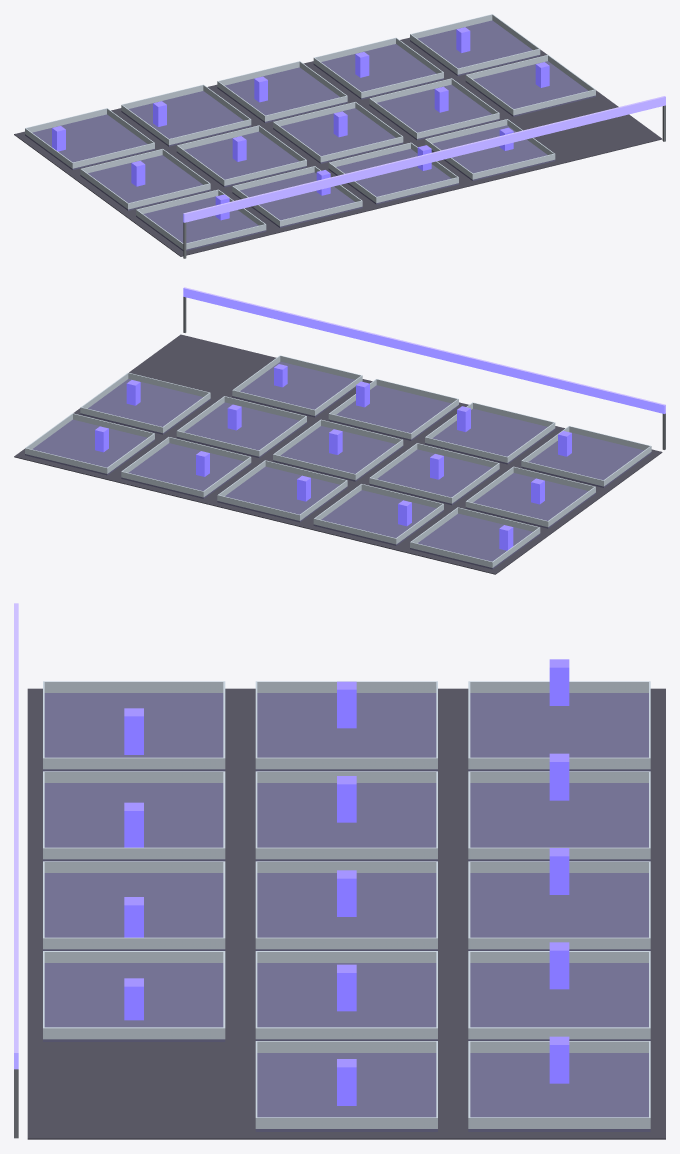
File: pack-regional.glb
The picture shows the model from 3 angles, top to bottom: view 1: azimuth 30°, elevation 25°; view 2: azimuth 150°, elevation 25°; view 3: azimuth 270°, elevation 25°; orthographic projection. The views are drawn at different scales.
Visible parts, largest first — view 1: Regional; view 2: Regional; view 3: Regional.
Boxes of the visible parts, bbox=[...] form: Regional: bbox=[14, 14, 665, 258]; Regional: bbox=[14, 287, 665, 574]; Regional: bbox=[14, 603, 665, 1139].
Bounding box in the file's own units: 70 × 6.3 × 42.9.
